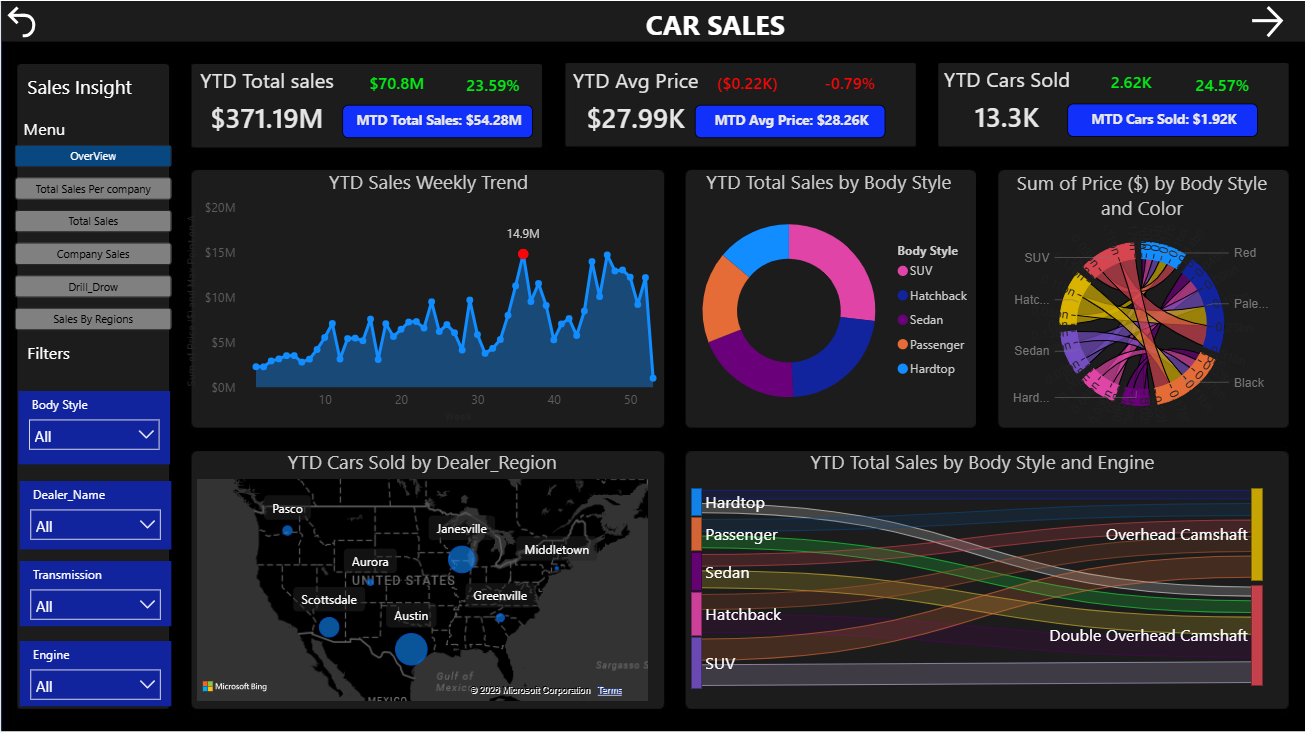

This screenshot's page, from the dashboard's own definition file:
{"tool":"powerbi","page":{"name":"Total  Sales","canvas":[1280,720],"ordinal":2},"visuals":[{"type":"card","title":"YTD Total sales","fields":{"Values":["Sheet1.YTD Total Sales"]},"box":[187.6,64.1,146.9,76.6],"z":0},{"type":"card","title":"Sales Differences","fields":{"Values":["Sheet1.Sales Differences"]},"box":[350.1,64.1,78.1,37.5],"z":1000},{"type":"card","title":"Sales Differences","fields":{"Values":["Sheet1.YoY Sales Growth"]},"box":[443.9,65.6,78.1,37.5],"z":2000},{"type":"card","fields":{"Values":["Sheet1.MTD KPI"]},"box":[334.5,101.6,187.6,32.8],"z":3000},{"type":"card","title":"YTD Avg Price","fields":{"Values":["Sheet1.YTD Avg Price"]},"box":[550.2,64.1,146.9,76.6],"z":4000},{"type":"card","title":"Sales Differences","fields":{"Values":["Sheet1.Avg Price Dif"]},"box":[697.1,64.1,71.9,37.5],"z":5000},{"type":"card","title":"Sales Differences","fields":{"Values":["Sheet1.YoY Avg Price Growth"]},"box":[797.1,64.1,71.9,37.5],"z":6000},{"type":"card","fields":{"Values":["Sheet1.MTD Avg Price KPI"]},"box":[681.5,101.6,187.6,32.8],"z":7000},{"type":"card","title":"YTD Cars Sold","fields":{"Values":["Sheet1.YTD Cars Sold"]},"box":[914.3,62.5,146.9,76.6],"z":8000},{"type":"card","title":"Sales Differences","fields":{"Values":["Sheet1.Cars Sold Dif"]},"box":[1073.8,62.5,71.9,37.5],"z":9000},{"type":"card","title":"Sales Differences","fields":{"Values":["Sheet1.YoY Cars Sold Growth"]},"box":[1162.9,65.6,71.9,37.5],"z":10000},{"type":"card","fields":{"Values":["Sheet1.MTD Cars Sold KPI"]},"box":[1047.2,100,187.6,32.8],"z":11000},{"type":"slicer","fields":{"Values":["Sheet1.Body Style"]},"box":[17.2,382.9,148.5,71.9],"z":12000},{"type":"slicer","fields":{"Values":["Car_Sql.Dealer_Name"]},"box":[18.2,471.5,148.5,67.2],"z":13000},{"type":"slicer","fields":{"Values":["Sheet1.Transmission"]},"box":[18.2,549.7,148.5,64.1],"z":14000},{"type":"slicer","fields":{"Values":["Sheet1.Engine"]},"box":[18.2,627.8,148.5,64.1],"z":15000},{"type":"textbox","box":[18.8,347,61,35.9],"z":16000},{"type":"tableEx","fields":{"Values":["Car_Sql.Car_id","Sheet1.Date","car.Customer_Name","Car_Sql.Dealer_Region","Car_Access.Company","Sheet1.Color","Car_Access.Model","Sum(Sheet1.Price ($))"]},"box":[187.6,162.6,1092.5,529.9],"z":17000},{"type":"textbox","box":[31.3,56.3,121.9,43.8],"z":18000},{"type":"textbox","box":[31.3,118.8,61,43.8],"z":19000},{"type":"actionButton","box":[0,0,62.5,40.6],"z":20000},{"type":"pageNavigator","box":[10.9,164.1,154.7,182.9],"z":21000},{"type":"actionButton","box":[1222.3,0,42.2,40.6],"z":22000},{"type":"textbox","box":[547.9,0,266.8,63.2],"z":23000}]}

Visuals, with their boxes in screenshot pixels (x1, y1, x2, y2), scaled from the page's 1280x720 canvas onto the 1305x733 screenshot:
"YTD Total sales" card: 191:65:341:143
"Sales Differences" card: 357:65:437:103
"Sales Differences" card: 453:67:532:105
card - Sheet1.MTD KPI: 341:103:532:137
"YTD Avg Price" card: 561:65:711:143
"Sales Differences" card: 711:65:784:103
"Sales Differences" card: 813:65:886:103
card - Sheet1.MTD Avg Price KPI: 695:103:886:137
"YTD Cars Sold" card: 932:64:1082:142
"Sales Differences" card: 1095:64:1168:102
"Sales Differences" card: 1186:67:1259:105
card - Sheet1.MTD Cars Sold KPI: 1068:102:1259:135
slicer - Sheet1.Body Style: 18:390:169:463
slicer - Car_Sql.Dealer_Name: 19:480:170:548
slicer - Sheet1.Transmission: 19:560:170:625
slicer - Sheet1.Engine: 19:639:170:704
textbox: 19:353:81:390
tableEx - Car_Sql.Car_id x Sheet1.Date: 191:166:1304:705
textbox: 32:57:156:102
textbox: 32:121:94:166
actionButton: 0:0:64:41
pageNavigator: 11:167:169:353
actionButton: 1246:0:1289:41
textbox: 559:0:831:64
